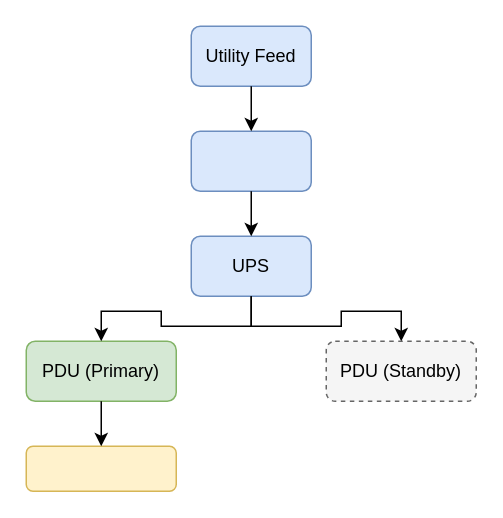
Some shapes in this 503 by 518 pixel diagram are drawn without their labels. Each missing label, with the box of its shape:
Generator: (190, 130, 311, 191)
Server: (25, 445, 176, 491)
